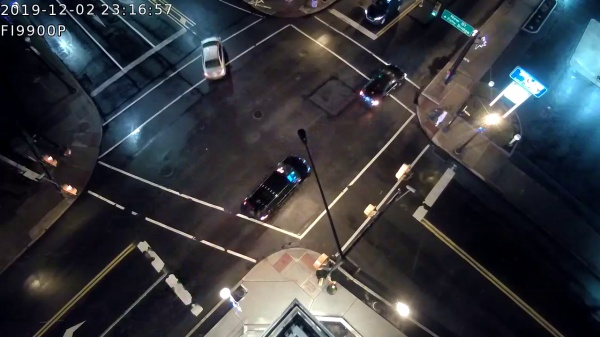car: (241, 154, 314, 222), (356, 62, 405, 109), (197, 34, 227, 78), (361, 1, 402, 26)
